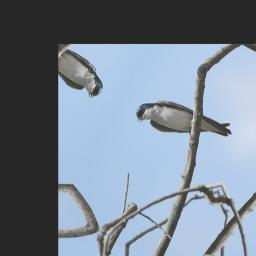Swallow: (132, 85, 236, 161)
